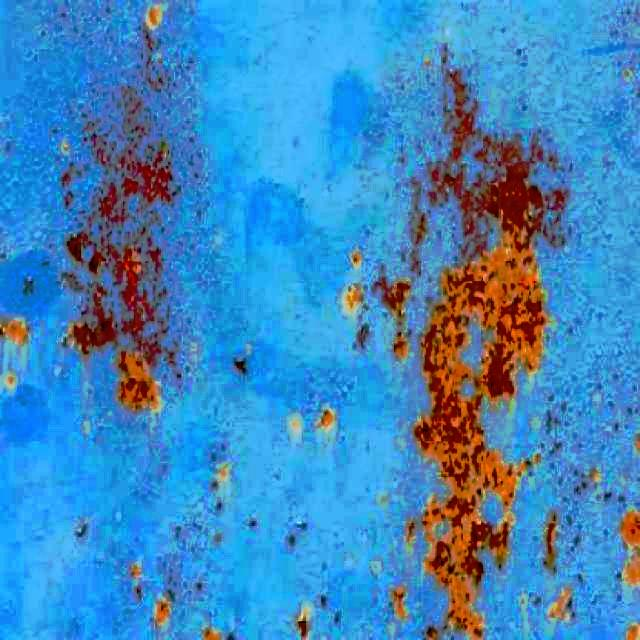Corrosion: (414, 67, 568, 640), (60, 25, 194, 413), (622, 511, 640, 586), (341, 282, 365, 320), (0, 319, 29, 346), (128, 562, 143, 602), (296, 605, 313, 640), (153, 598, 171, 630), (145, 2, 163, 30), (316, 408, 337, 432), (356, 324, 371, 350), (350, 248, 364, 270), (0, 371, 15, 390), (234, 358, 249, 376), (202, 628, 222, 640), (627, 624, 640, 640)
